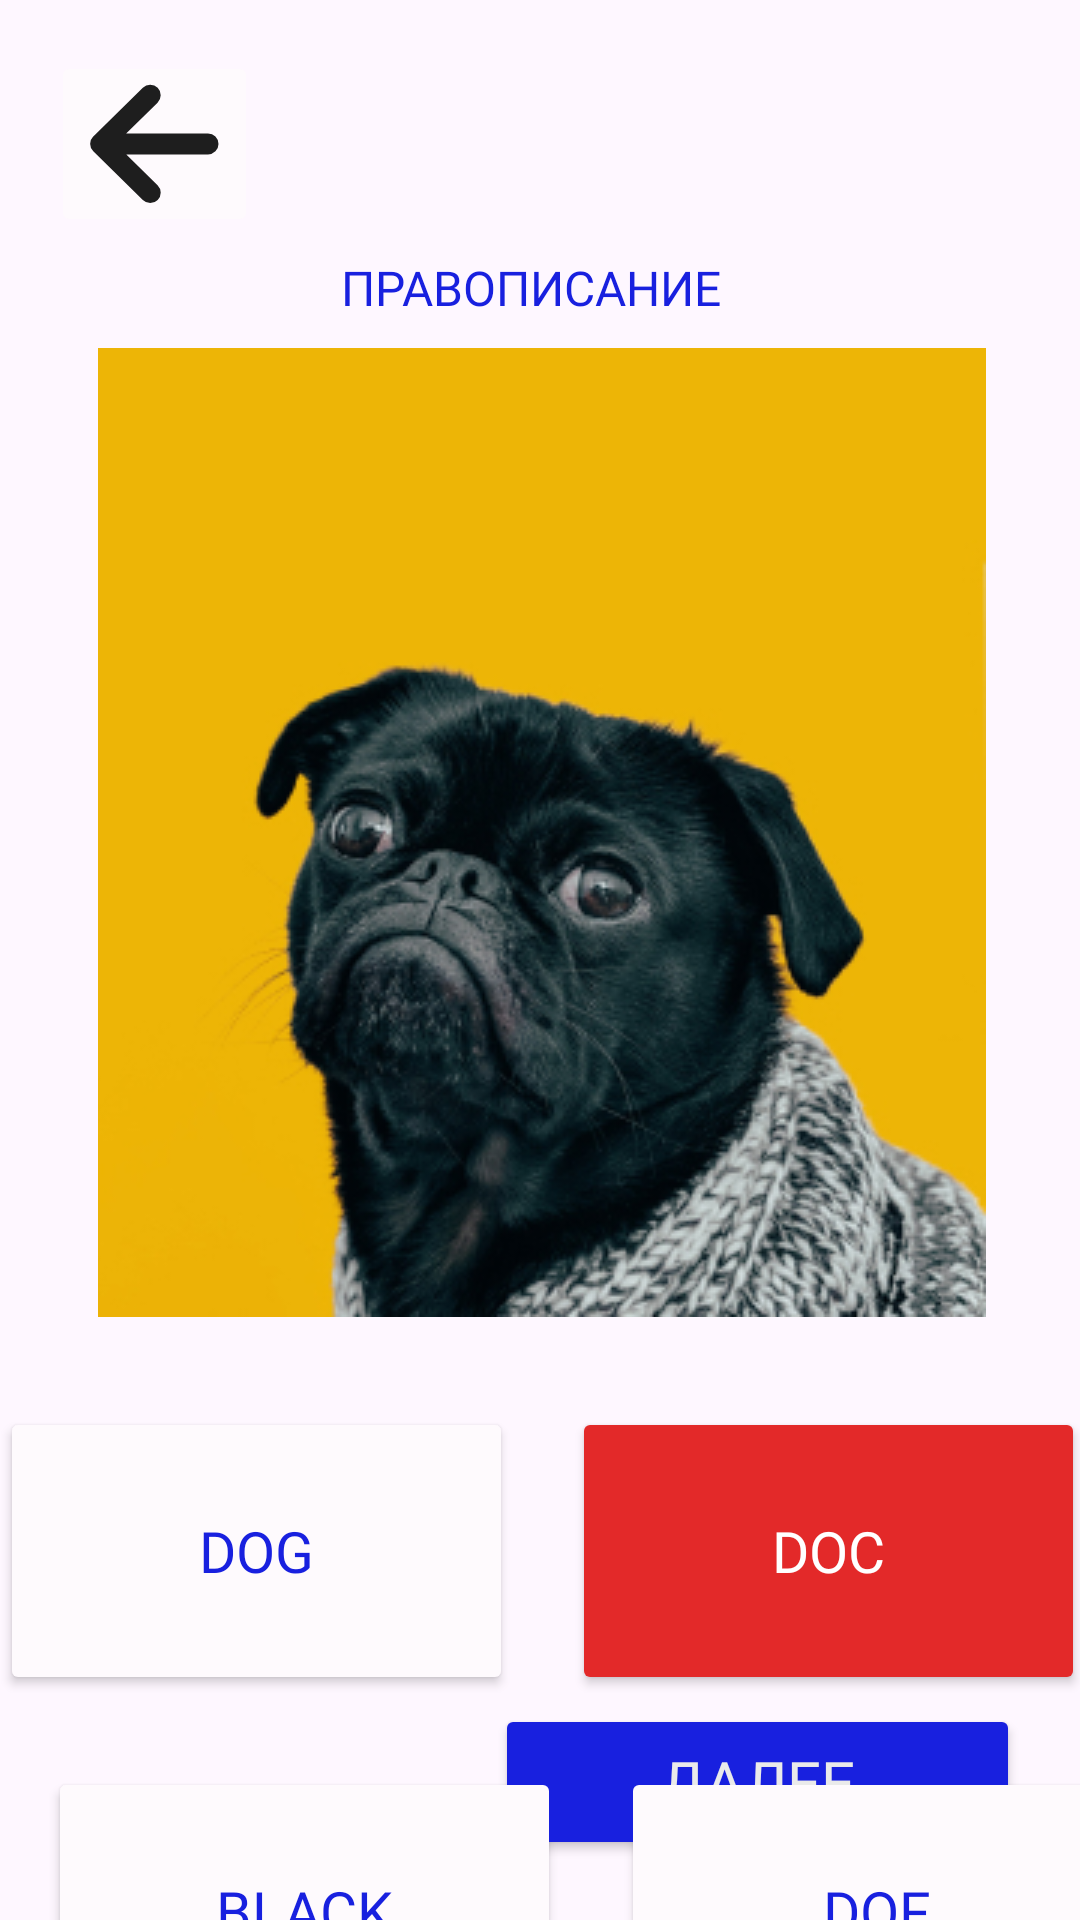

Screen size 1080 x 1920. Icon name, then its center in pixels as (x=x, y=y):
ion arrow back: (x=154, y=143)
